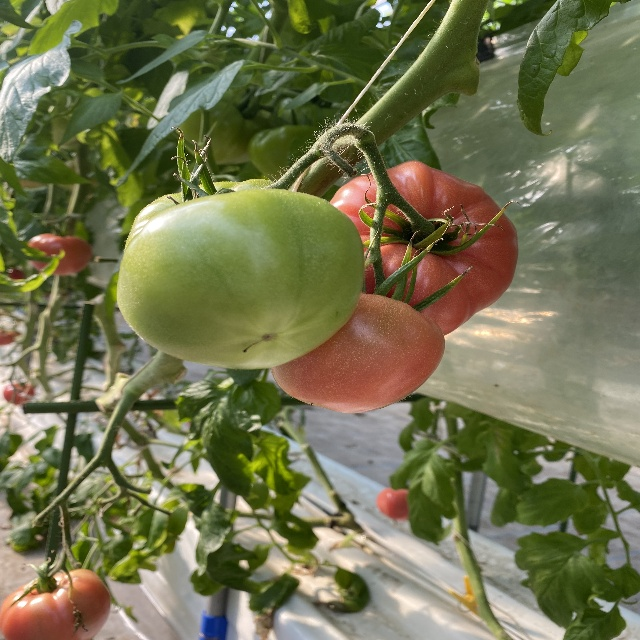b_fully_ripened: (329, 161, 520, 336)
b_green: (116, 186, 366, 370), (122, 178, 276, 256)
b_half_ripened: (270, 293, 445, 414), (0, 570, 112, 639)
